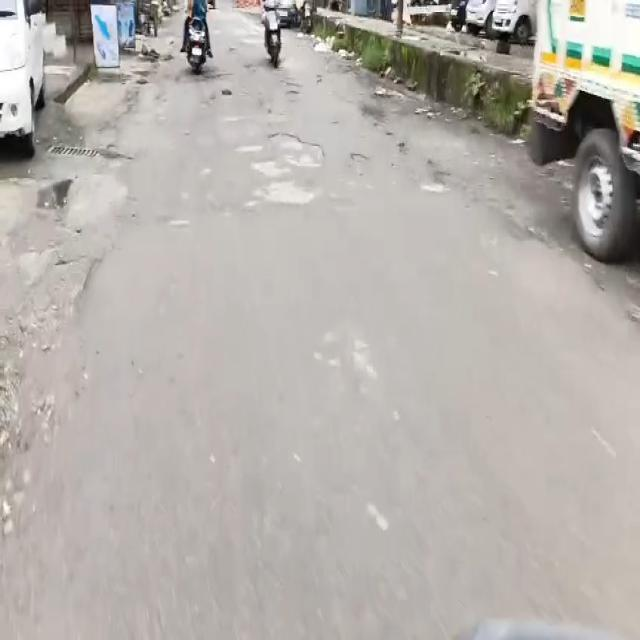road-pothole: (268, 133, 325, 168)
